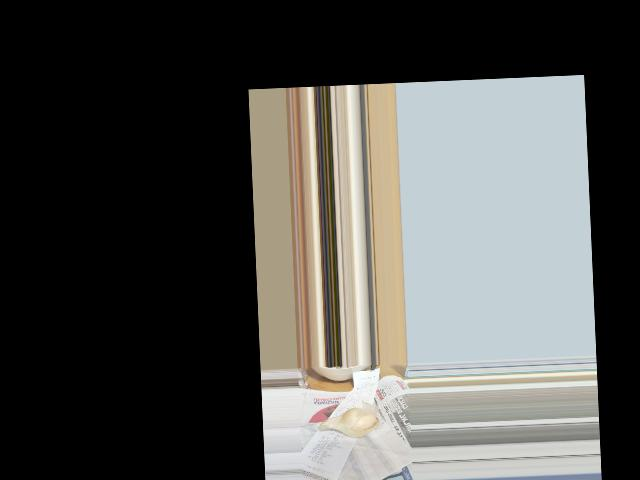onion: (321, 408, 377, 440)
